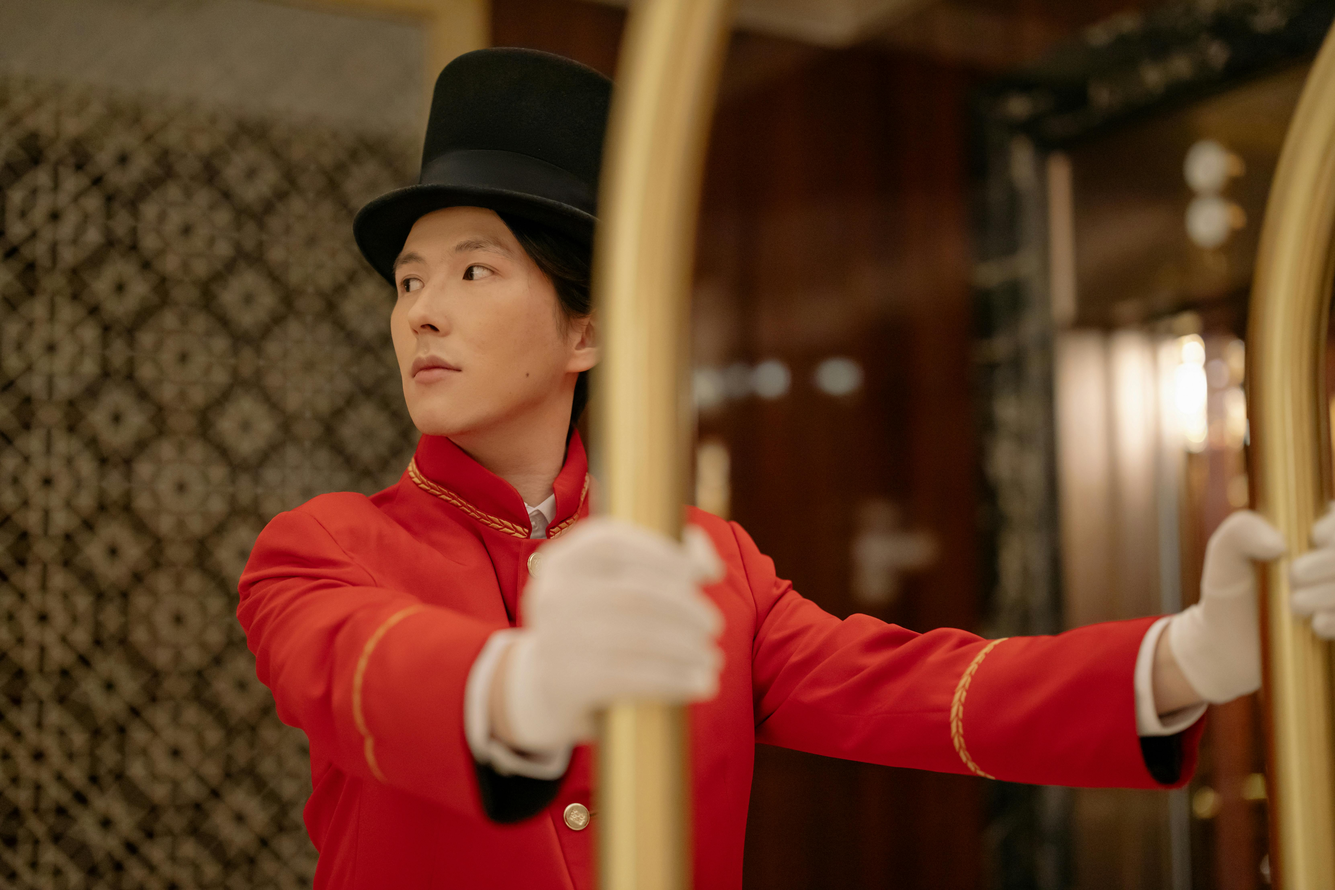gloves: (500, 512, 728, 747), (1160, 490, 1335, 708)
